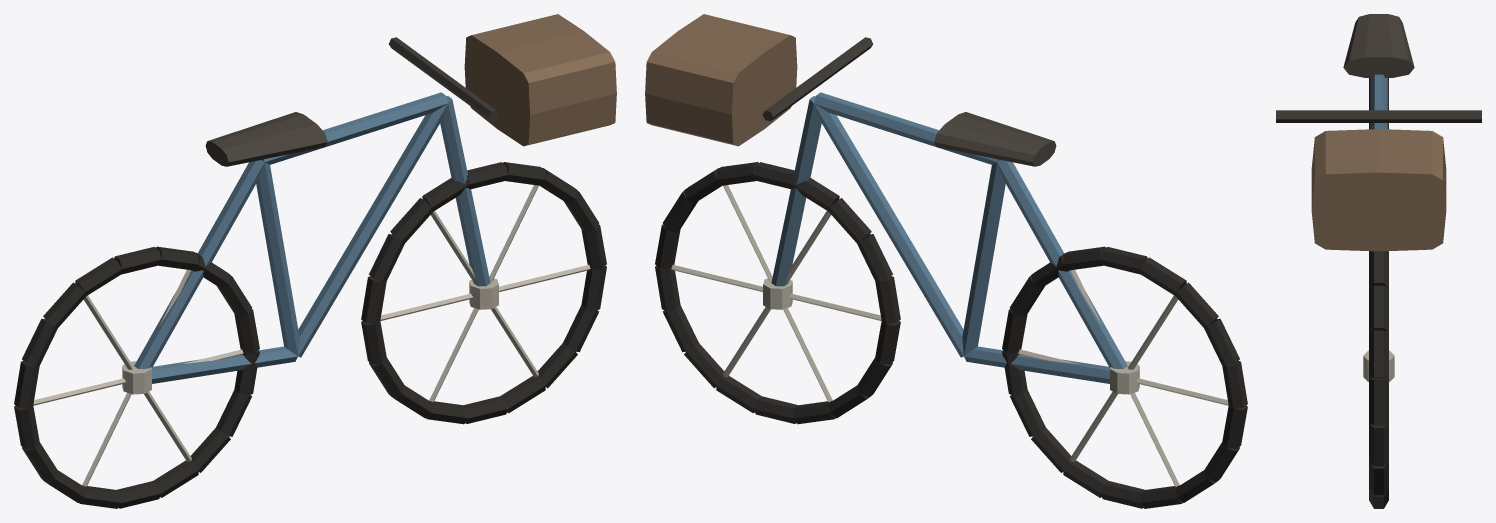
File: bisiklet-deniz-mavisi.glb
3 views of the same model, side by side, from view 1: azimuth 30°, elevation 25°; view 2: azimuth 150°, elevation 25°; view 3: azimuth 270°, elevation 25° (orthographic). The views are drawn at different scales.
Parts seen in each view (by area): view 1: lastik, a_deniz, ahsap, jant, ic, demir; view 2: lastik, a_deniz, ahsap, jant, ic, demir; view 3: ahsap, lastik, ic, demir, a_deniz, jant.
Part boxes in pixels (<box>): lastik: <box>14,162,606,508</box>; a_deniz: <box>134,92,490,383</box>; ahsap: <box>464,14,616,146</box>; jant: <box>33,185,590,486</box>; ic: <box>205,112,327,166</box>; demir: <box>389,37,499,121</box>; lastik: <box>655,162,1247,508</box>; a_deniz: <box>771,92,1127,383</box>; ahsap: <box>645,14,797,146</box>; jant: <box>671,185,1228,486</box>; ic: <box>934,112,1056,166</box>; demir: <box>762,37,872,121</box>; ahsap: <box>1311,129,1446,251</box>; lastik: <box>1369,78,1388,508</box>; ic: <box>1343,14,1414,77</box>; demir: <box>1276,110,1481,122</box>; a_deniz: <box>1370,74,1387,129</box>; jant: <box>1363,350,1394,381</box>.
Bounding box in the file's own units: 1.76 × 1.04 × 0.52.
